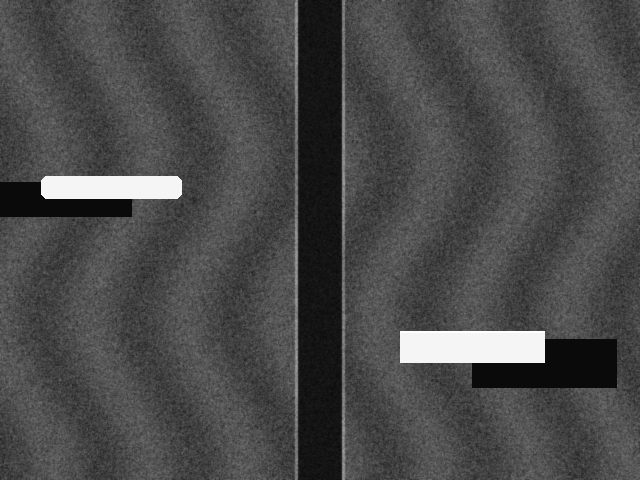Metal Debris: (400, 331, 544, 362)
Wood Debris: (41, 176, 181, 198)
